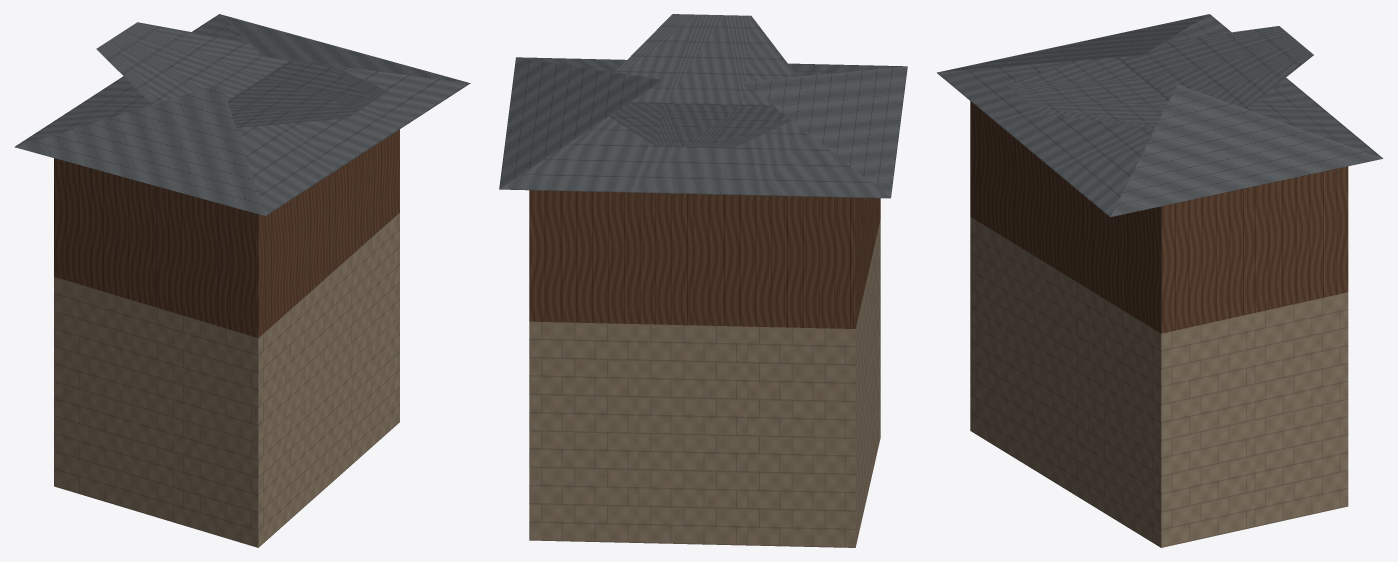
The model's file is bld_c21_32_371.gltf.
The picture shows the model from 3 angles, left to right: view 1: azimuth 30°, elevation 25°; view 2: azimuth 150°, elevation 25°; view 3: azimuth 270°, elevation 25°; orthographic projection. The views are drawn at different scales.
Visible parts, largest first — view 1: bld_c21_32_371; view 2: bld_c21_32_371; view 3: bld_c21_32_371.
Boxes of the visible parts, bbox=[...] form: bld_c21_32_371: bbox=[14, 14, 470, 547]; bld_c21_32_371: bbox=[499, 14, 907, 547]; bld_c21_32_371: bbox=[937, 14, 1382, 547].
Bounding box in the file's own units: 9.5 × 8.7 × 8.83.
3 materials, 3 textured.
